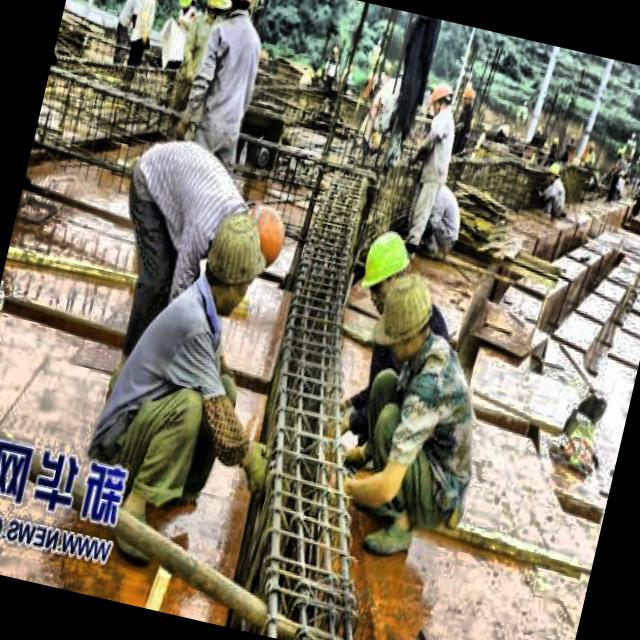helmet: (350, 222, 423, 321), (235, 192, 296, 272), (424, 76, 461, 127), (198, 0, 235, 27), (219, 0, 263, 18), (174, 0, 198, 15)
